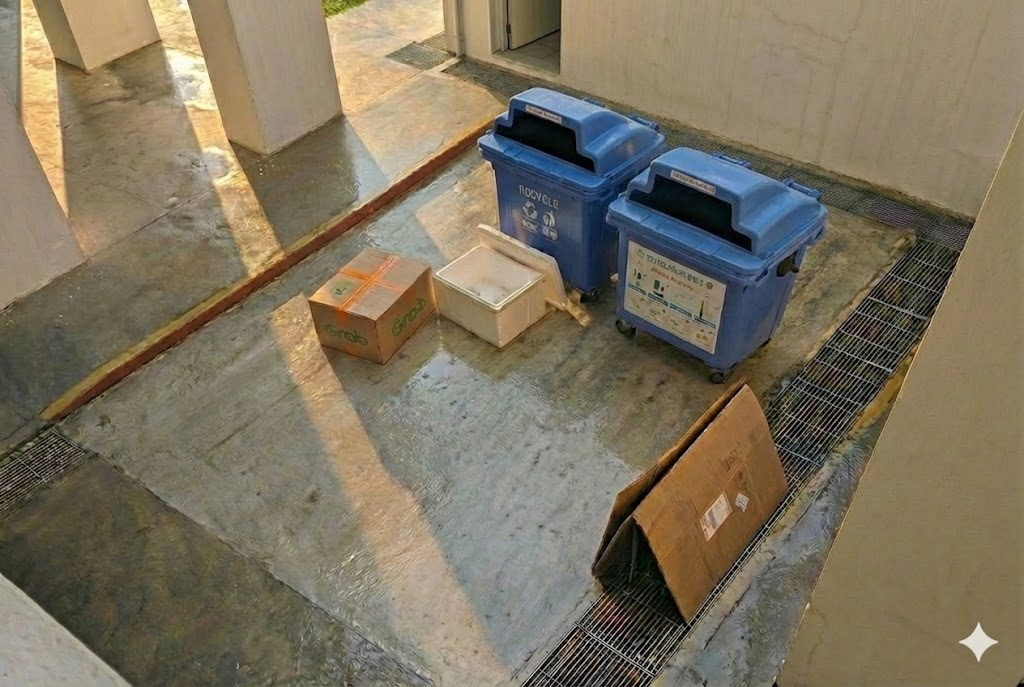bin_empty: (606, 147, 827, 381), (479, 88, 664, 297)
bulk_waste: (592, 382, 787, 622), (434, 224, 569, 348), (308, 249, 435, 363)
